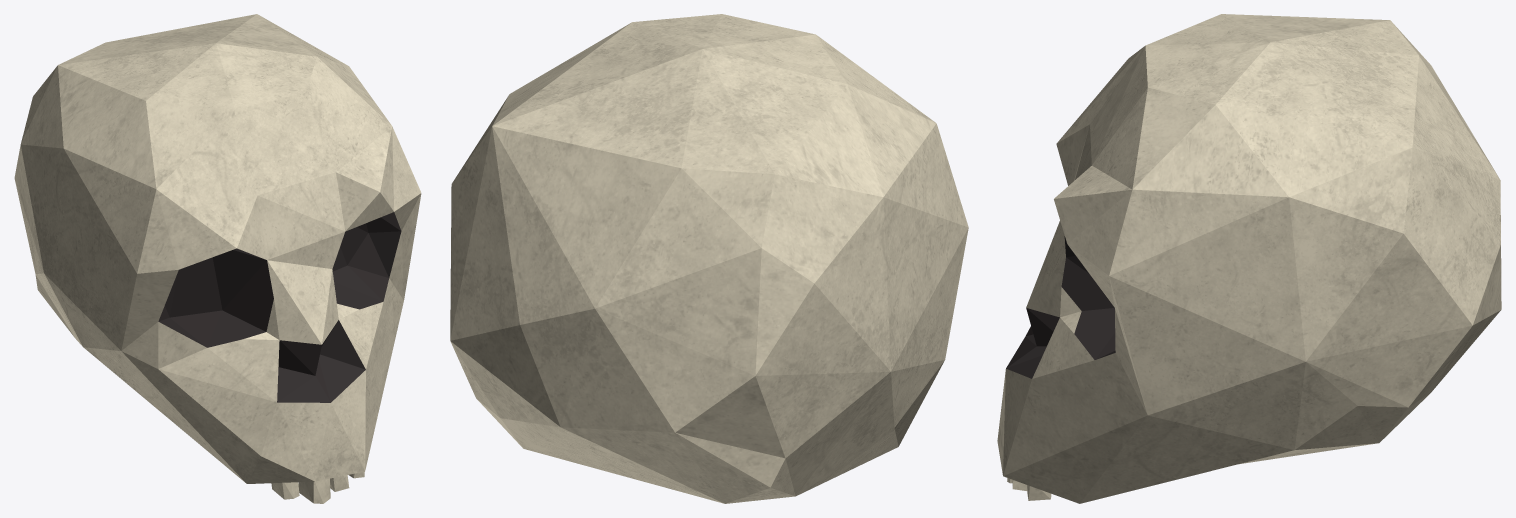
Rendered from skulll.fbx.
3 renders of one model, left to right at view 1: azimuth 30°, elevation 25°; view 2: azimuth 150°, elevation 25°; view 3: azimuth 270°, elevation 25°, orthographic. The views are drawn at different scales.
Parts seen in each view (by area): view 1: skull; view 2: skull; view 3: skull.
Part boxes in pixels (x1,y1,x2,y2): skull: (14, 14, 421, 503); skull: (450, 14, 968, 503); skull: (997, 14, 1501, 503).
Size of the model in its own units: 213 by 243 by 251.
